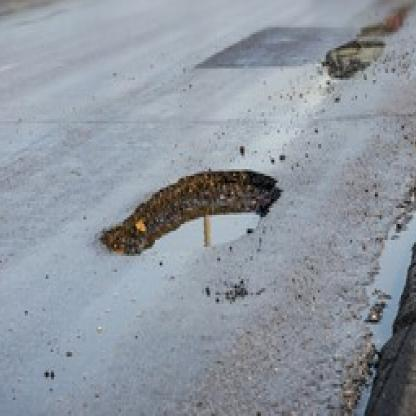pothole: (102, 169, 281, 256), (326, 39, 385, 80)
